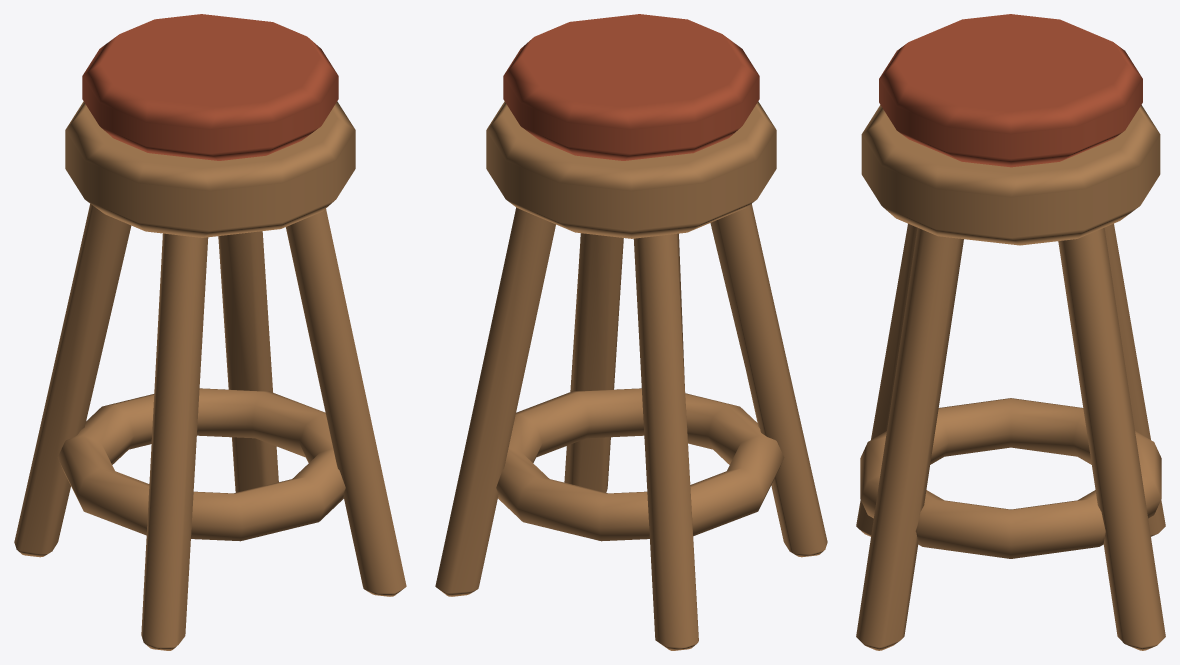
The model's file is MD_CozyShops_Stool.fbx.
3 views of the same model, side by side, from view 1: azimuth 30°, elevation 25°; view 2: azimuth 150°, elevation 25°; view 3: azimuth 270°, elevation 25° (orthographic). The views are drawn at different scales.
Visible parts, largest first — view 1: SM_CozyShops_Stool_Bar; view 2: SM_CozyShops_Stool_Bar; view 3: SM_CozyShops_Stool_Bar.
Boxes of the visible parts, x1=… form: SM_CozyShops_Stool_Bar: x1=14, y1=14, x2=406, y2=650; SM_CozyShops_Stool_Bar: x1=435, y1=14, x2=827, y2=650; SM_CozyShops_Stool_Bar: x1=856, y1=14, x2=1165, y2=650.
Bounding box in the file's own units: 0.36 × 0.66 × 0.3524.
